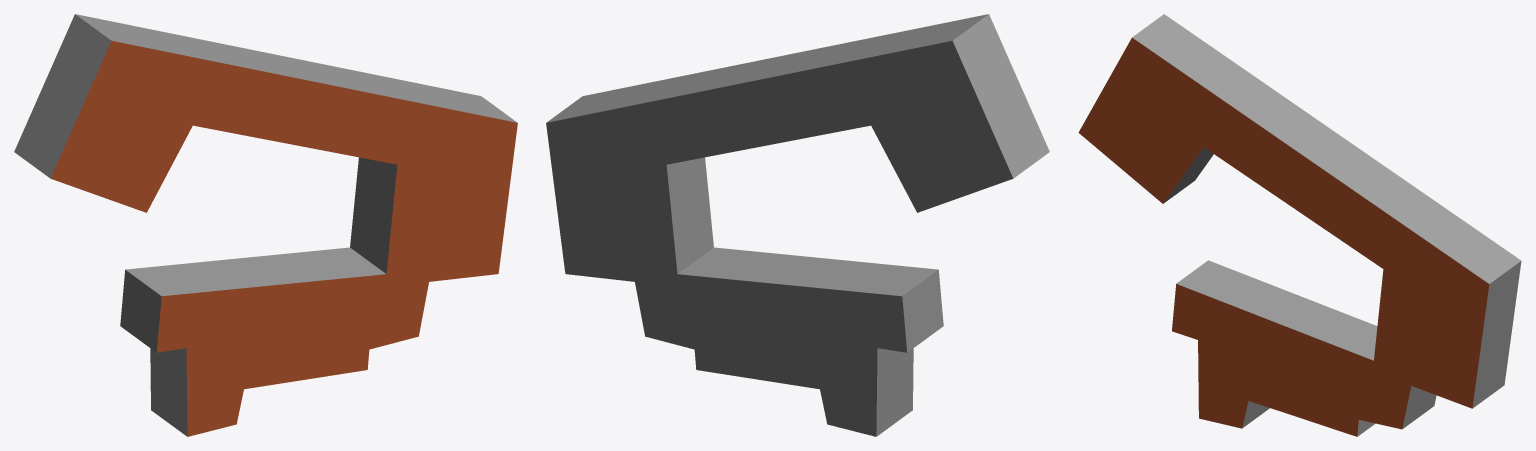
Rendered from construction_5409_assumed_A_Casa_h6m.obj.
3 renders of one model, left to right at view 1: azimuth 30°, elevation 25°; view 2: azimuth 150°, elevation 25°; view 3: azimuth 330°, elevation 25°, orthographic. The views are drawn at different scales.
Parts seen in each view (by area): view 1: construction_5409_assumed_A_Casa; view 2: construction_5409_assumed_A_Casa; view 3: construction_5409_assumed_A_Casa.
Boxes of the visible parts, x1,y1,x2,y2 form: construction_5409_assumed_A_Casa: [14, 14, 517, 436]; construction_5409_assumed_A_Casa: [546, 14, 1049, 436]; construction_5409_assumed_A_Casa: [1078, 14, 1521, 436].
Size of the model in its own units: 44.33 by 37.6 by 6.
